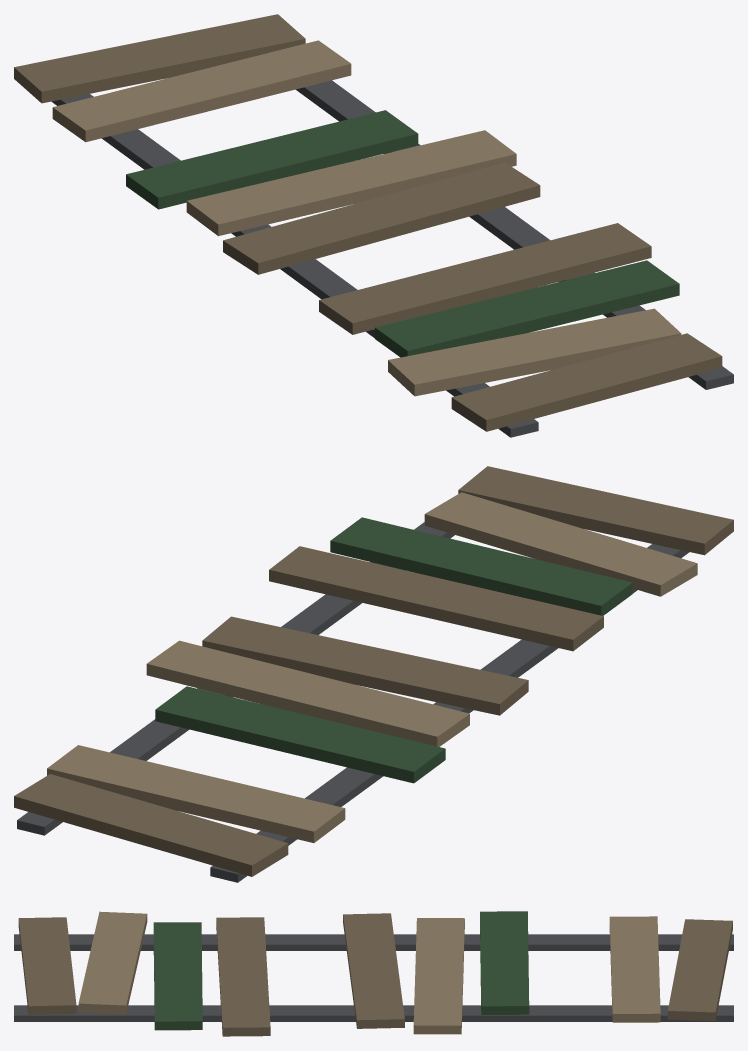
File: plank_path.glb
3 views of the same model, one above another, from view 1: azimuth 30°, elevation 25°; view 2: azimuth 150°, elevation 25°; view 3: azimuth 270°, elevation 25° (orthographic). The views are drawn at different scales.
Parts seen in each view (by area): view 1: driftwood_d42, driftwood_d30, moss_d40, silverfog_d60; view 2: driftwood_d42, driftwood_d30, moss_d40, silverfog_d60; view 3: driftwood_d42, driftwood_d30, silverfog_d60, moss_d40.
Part boxes in pixels (x1,y1,x2,y2): driftwood_d42: (14, 14, 722, 431); driftwood_d30: (52, 40, 681, 396); moss_d40: (126, 110, 679, 357); silverfog_d60: (51, 80, 733, 437); driftwood_d42: (14, 466, 733, 876); driftwood_d30: (47, 492, 697, 842); moss_d40: (155, 517, 632, 783); silverfog_d60: (17, 522, 689, 882); driftwood_d42: (18, 913, 732, 1036); driftwood_d30: (78, 911, 660, 1034); silverfog_d60: (14, 934, 733, 1021); moss_d40: (153, 911, 529, 1030).
Bounding box in the file's own units: 1.15 × 0.07 × 3.
